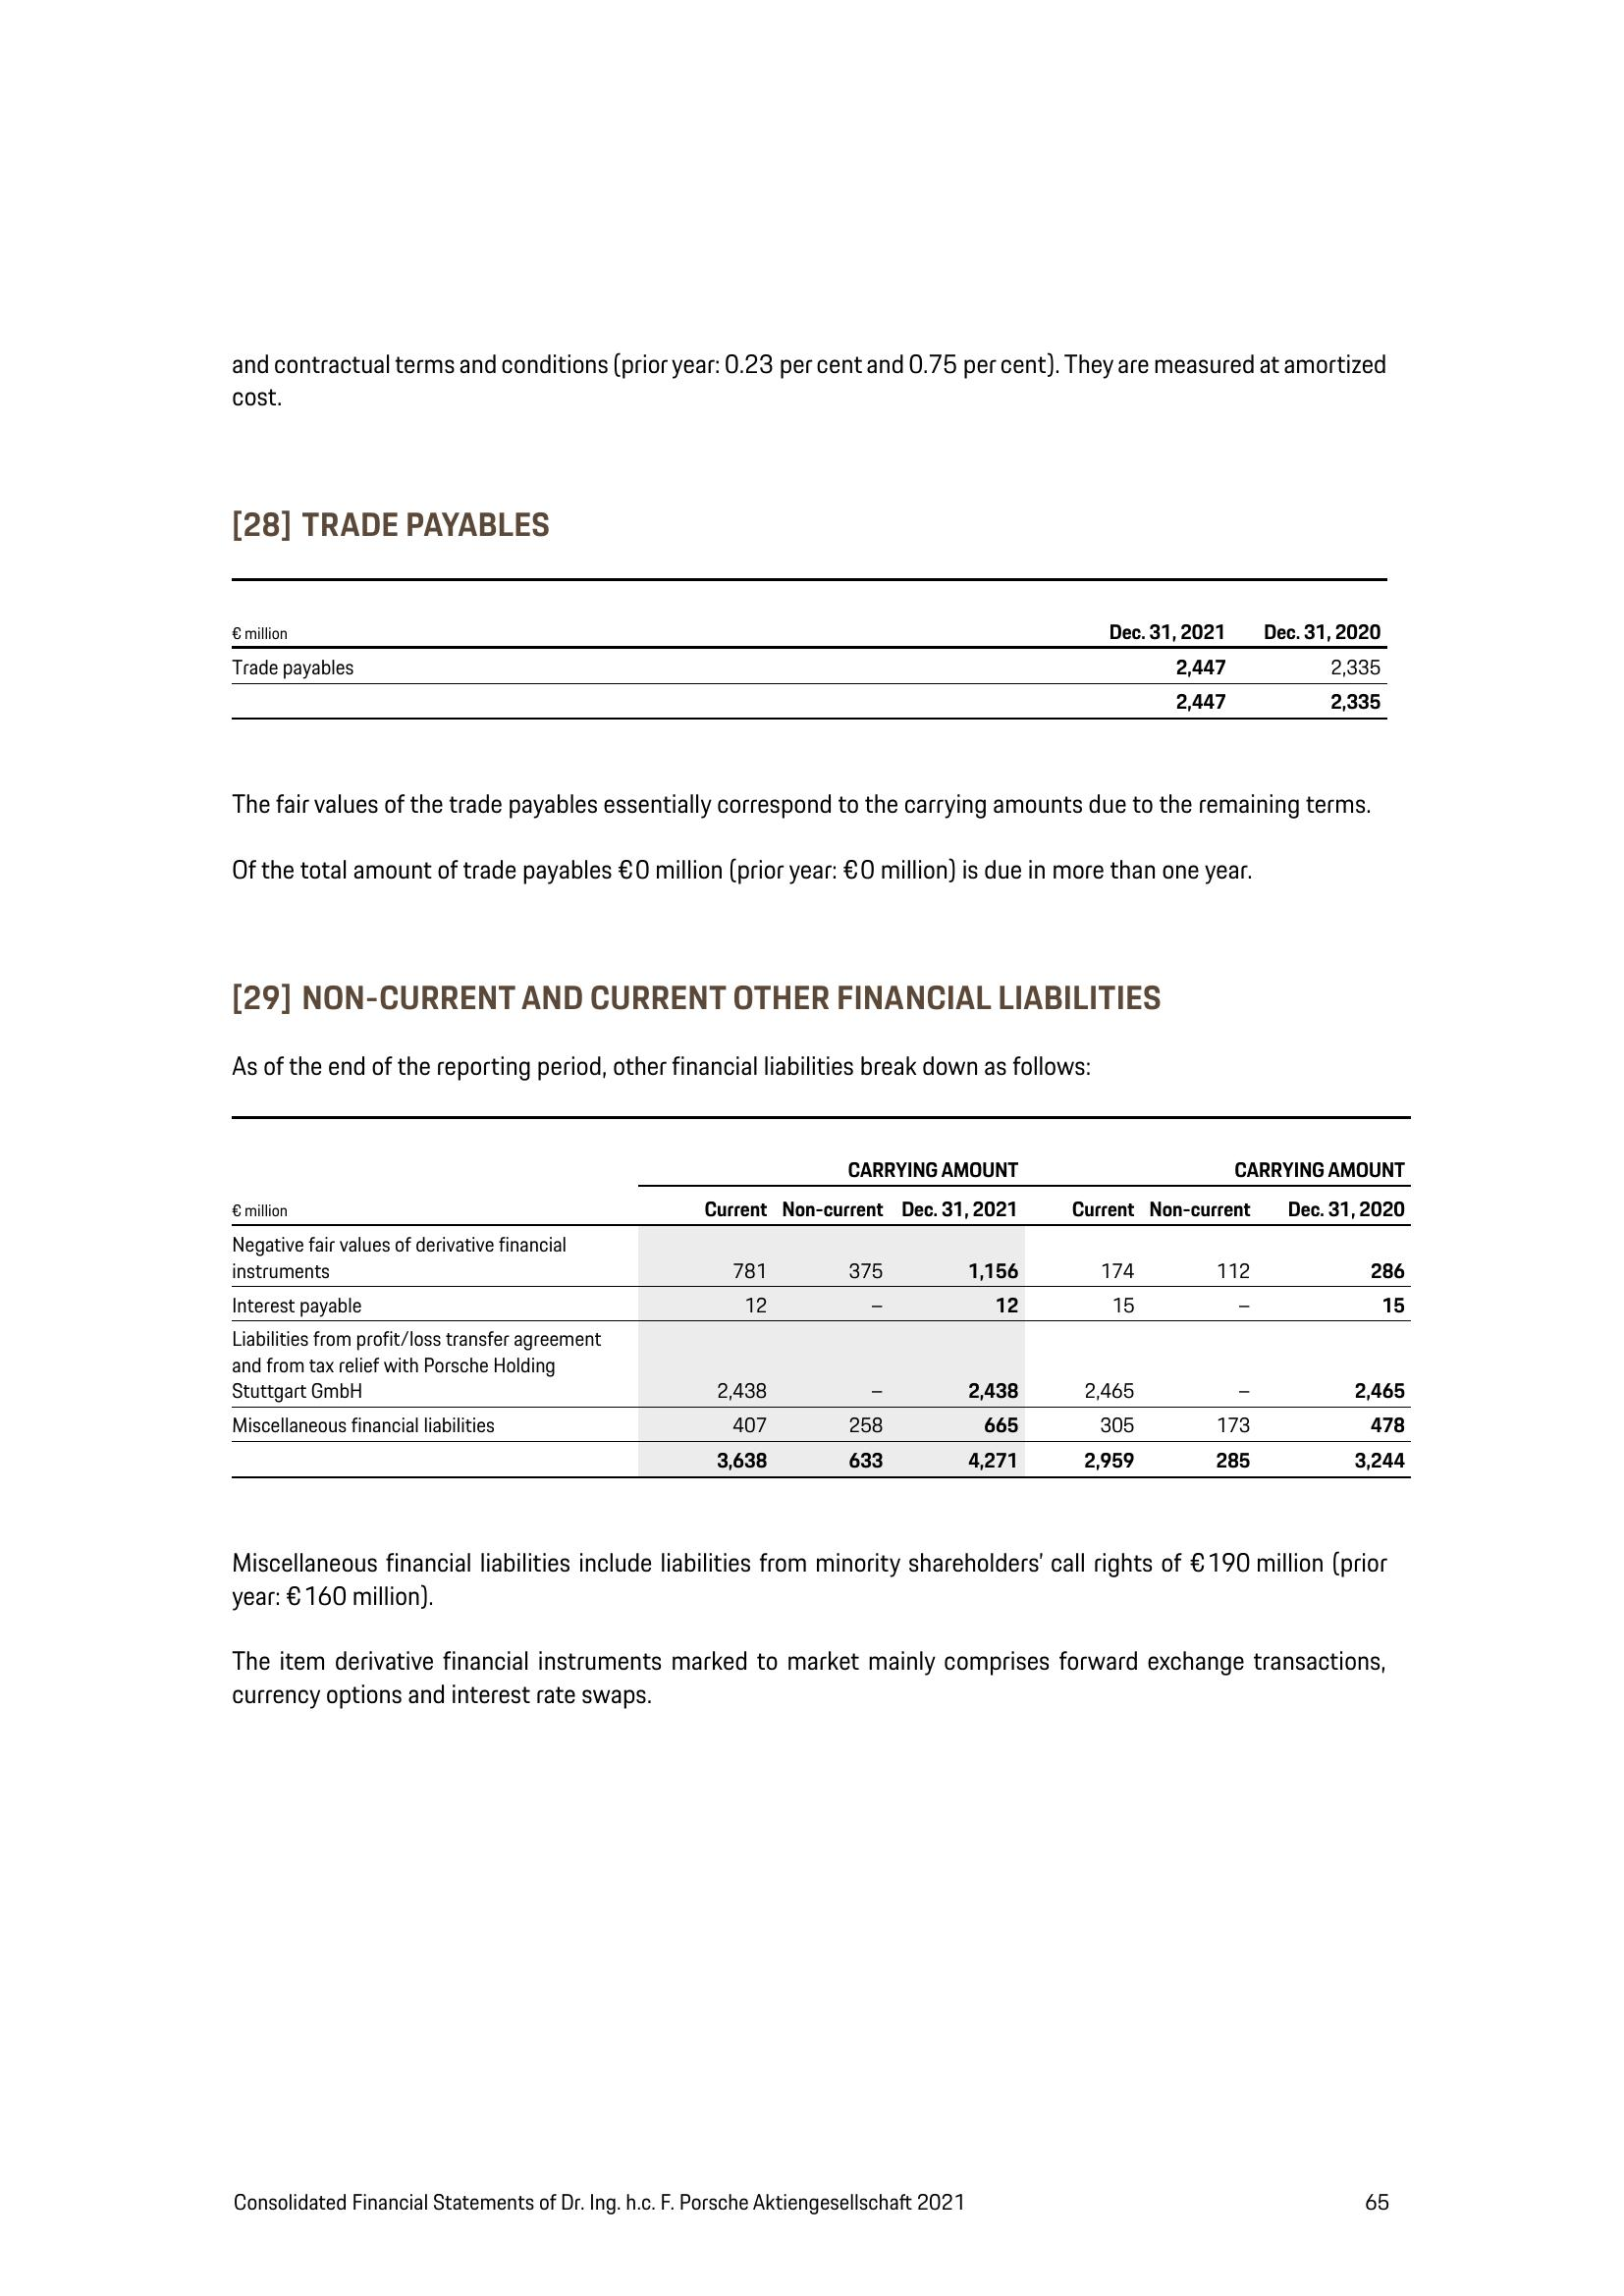Footer: (0, 2152, 1624, 2296)
Header: (0, 0, 1624, 211)
Table: (216, 1096, 1429, 1513), (155, 541, 1425, 729)
